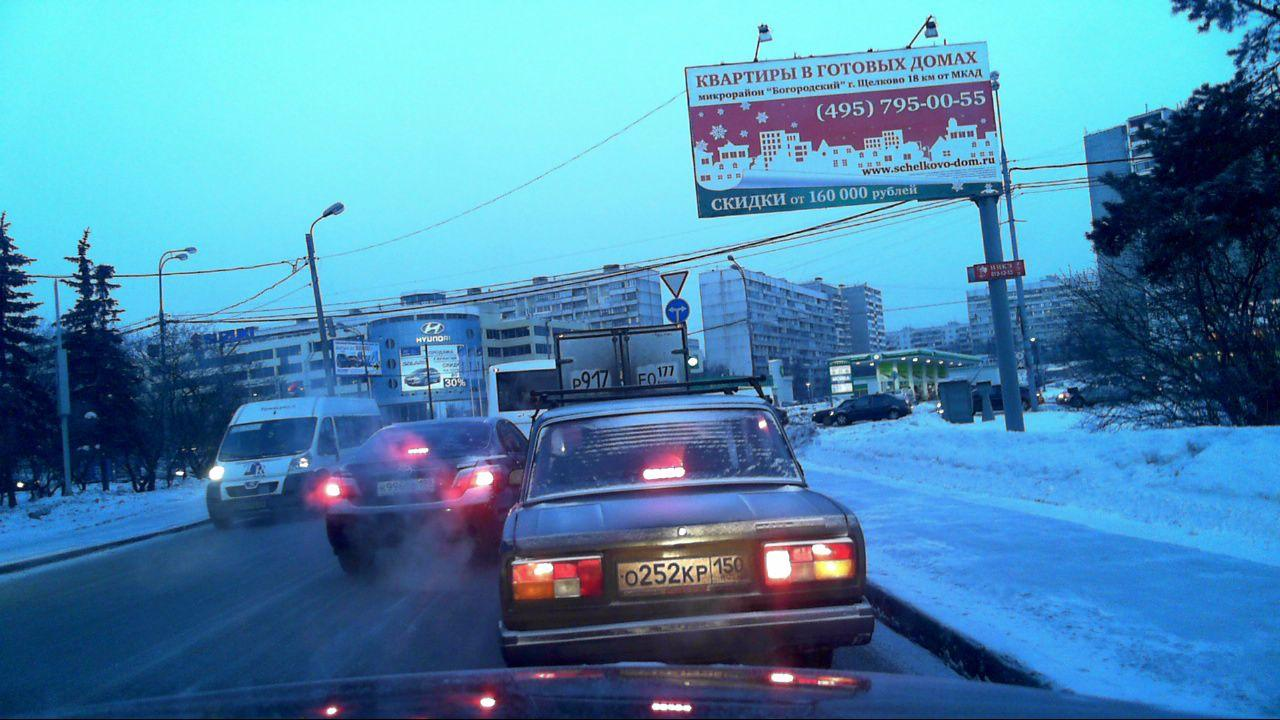2_4: (661, 270, 690, 298)
4_1_6: (663, 298, 689, 323)
